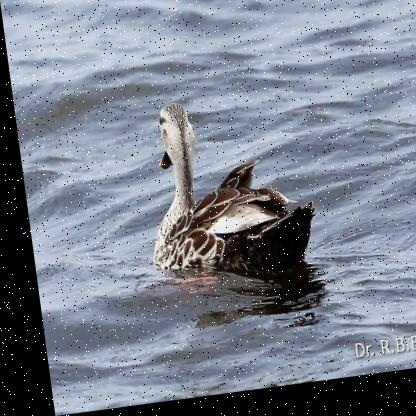Burung: (129, 94, 313, 284)
